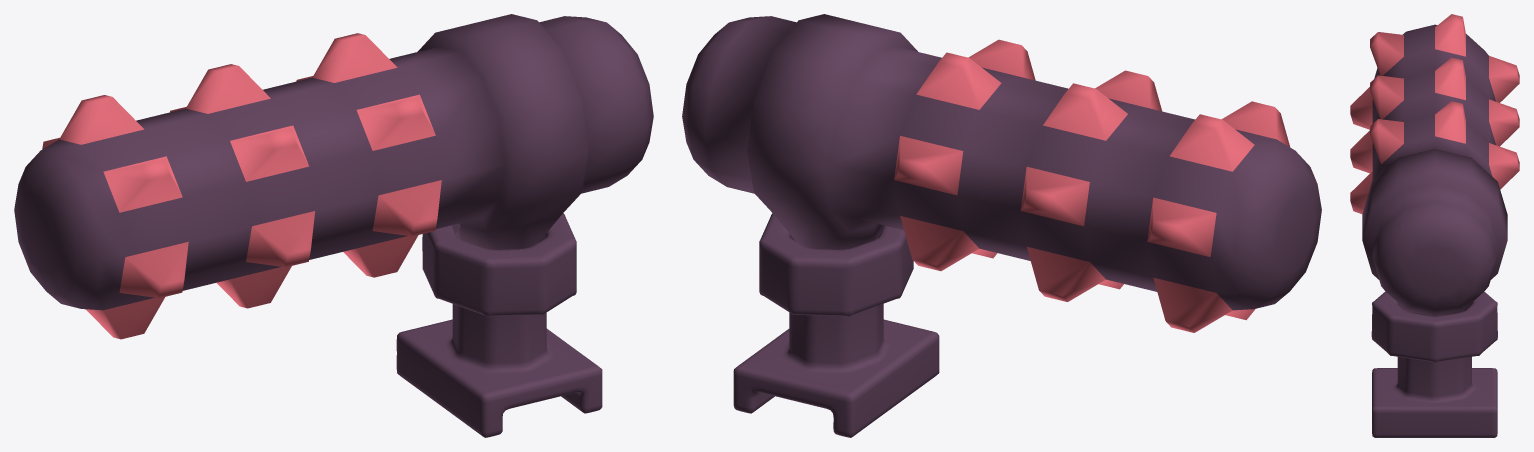
The model's file is Trap.fbx.
3 views of the same model, side by side, from view 1: azimuth 30°, elevation 25°; view 2: azimuth 150°, elevation 25°; view 3: azimuth 270°, elevation 25° (orthographic). The views are drawn at different scales.
Visible parts, largest first — view 1: Cylinder.001, Cube; view 2: Cylinder.001, Cube; view 3: Cylinder.001, Cube.
Boxes of the visible parts, box(x1,y1,x2,y2) form: Cylinder.001: box(14, 14, 653, 339); Cube: box(396, 213, 602, 437); Cylinder.001: box(682, 14, 1321, 332); Cube: box(733, 213, 939, 437); Cylinder.001: box(1350, 14, 1519, 316); Cube: box(1371, 291, 1497, 437).
Bounding box in the file's own units: 0.9717 × 0.6003 × 0.3448.
